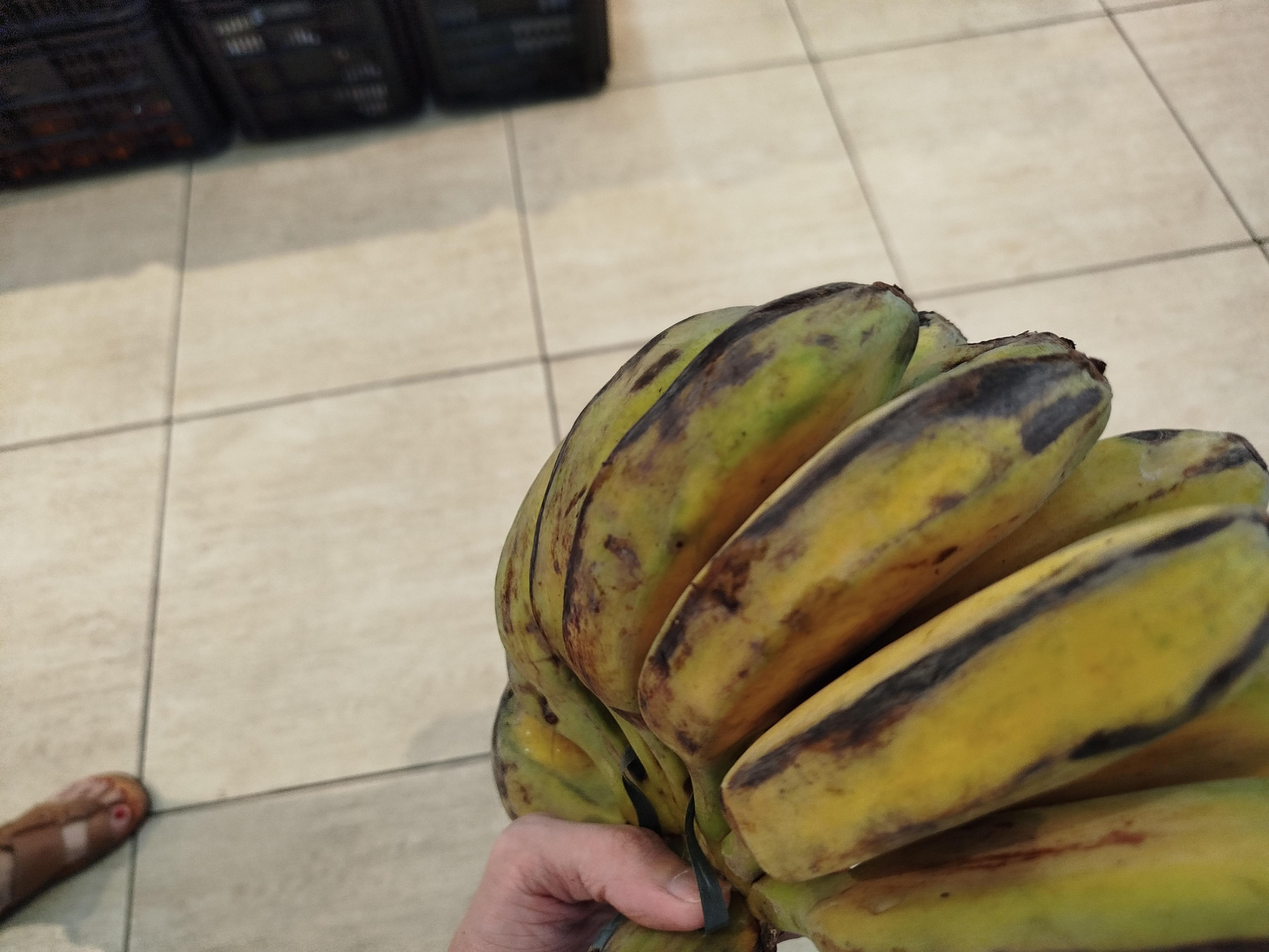underripe: (494, 286, 1269, 952)
